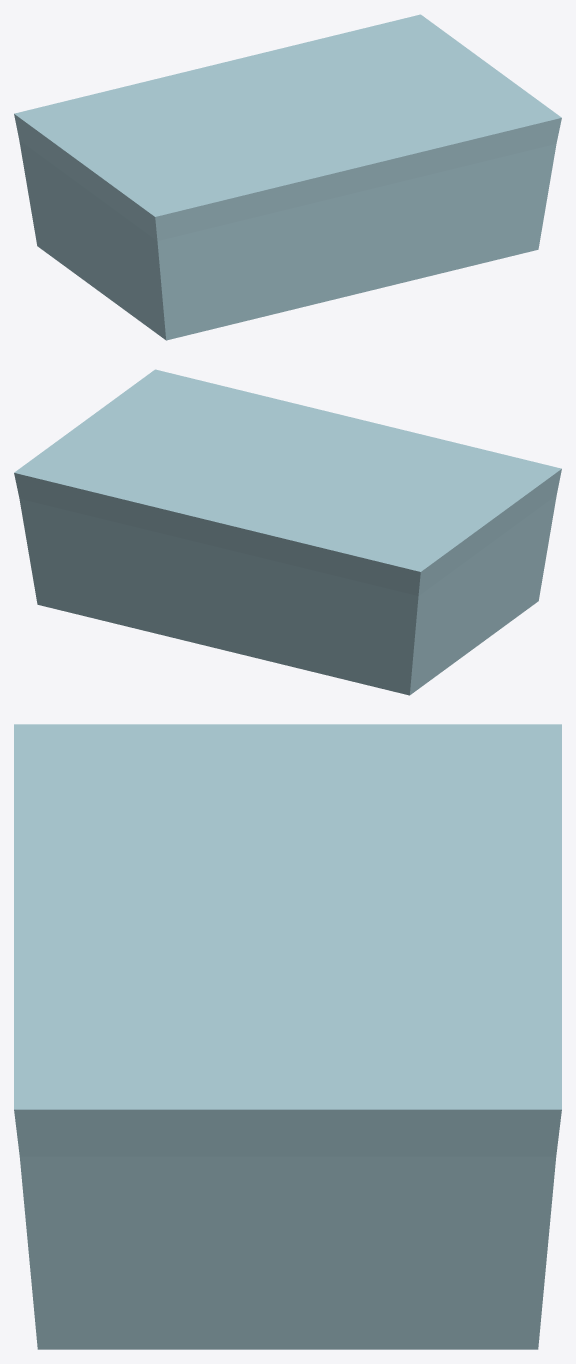
File: WaterTank_water.fbx
The picture shows the model from 3 angles, top to bottom: view 1: azimuth 30°, elevation 25°; view 2: azimuth 150°, elevation 25°; view 3: azimuth 270°, elevation 25°; orthographic projection. The views are drawn at different scales.
Visible parts, largest first — view 1: Object001; view 2: Object001; view 3: Object001.
Boxes of the visible parts, <box> form: Object001: <box>14,14,561,340</box>; Object001: <box>14,369,561,695</box>; Object001: <box>14,724,561,1349</box>.
Size of the model in its own units: 8.74 by 2.71 by 5.26.
